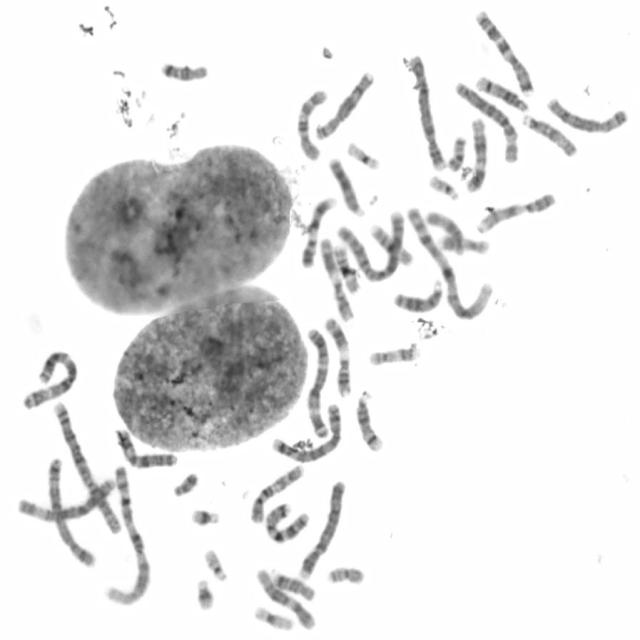A1: (406, 203, 494, 320), (104, 465, 151, 607)
A2: (49, 398, 124, 536), (332, 206, 408, 284)
A3: (19, 346, 79, 411), (303, 324, 332, 440)
B4: (296, 476, 348, 580), (406, 51, 446, 172)
B5: (44, 454, 98, 568), (269, 398, 343, 464)
C10: (247, 462, 305, 524), (292, 86, 329, 162)
C11: (316, 234, 355, 324), (321, 314, 353, 398)
C12: (254, 564, 318, 632), (462, 115, 488, 193)
C6: (452, 78, 520, 164), (13, 474, 118, 524)
C7: (472, 7, 535, 96), (262, 500, 311, 545)
C8: (312, 67, 375, 142), (546, 95, 631, 135)
C9: (474, 189, 557, 235), (298, 193, 338, 269)
D13: (326, 153, 366, 218), (390, 275, 444, 315)
D14: (473, 73, 529, 114), (352, 387, 384, 452)
D15: (520, 111, 579, 159), (424, 207, 465, 256)
E16: (367, 222, 416, 269), (331, 242, 363, 295)
E17: (366, 340, 420, 368), (437, 232, 491, 255)
E18: (270, 568, 316, 602), (157, 57, 210, 84)
F19: (251, 602, 294, 631), (344, 138, 382, 170)
F20: (325, 562, 366, 586), (445, 132, 469, 172)
G21: (194, 574, 216, 612), (188, 504, 222, 528)
G22: (427, 172, 461, 201), (202, 546, 229, 582)
X: (112, 424, 179, 470)
Y: (170, 468, 200, 498)
